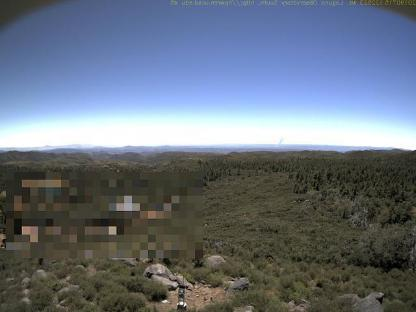smoke: (275, 134, 287, 150)
